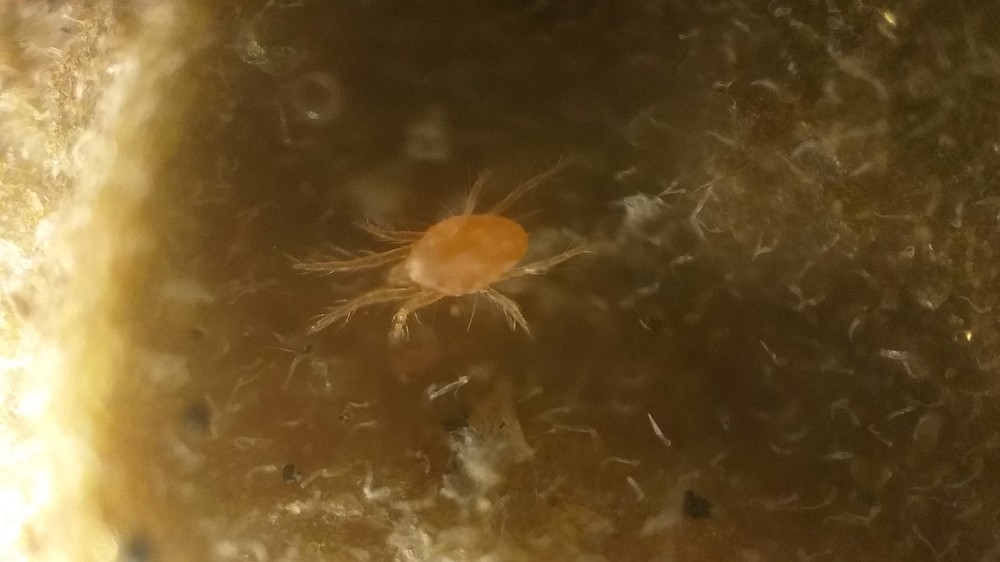Aracnido Rojo: (275, 143, 628, 391)
